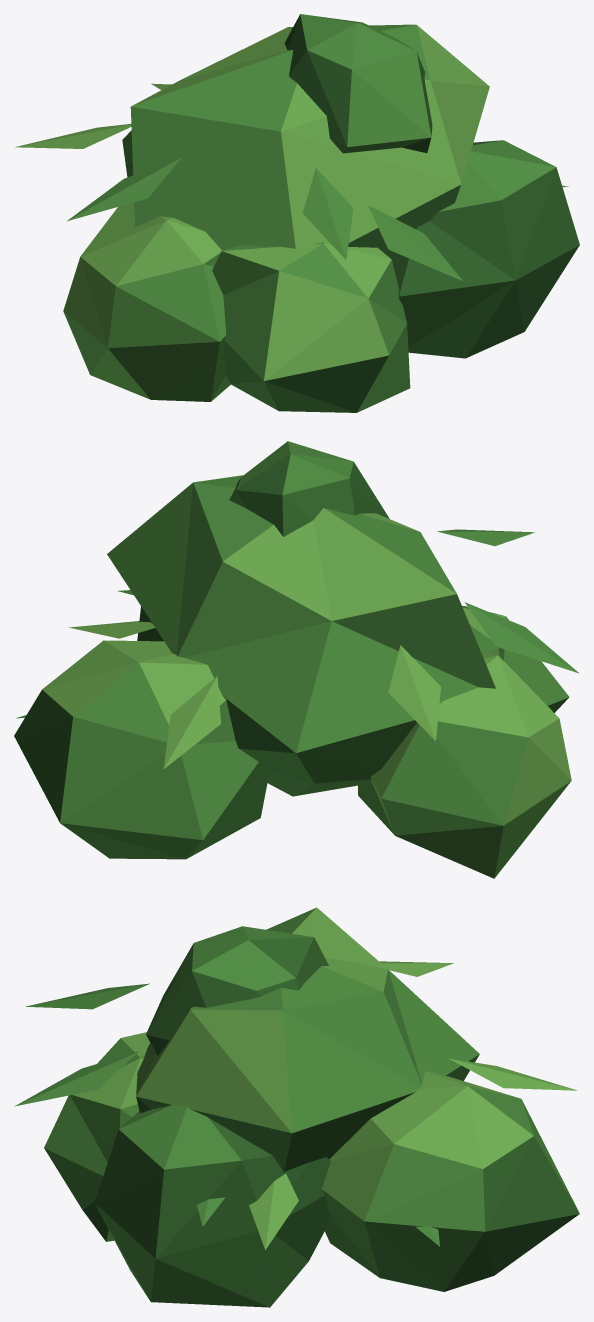
File: bush_round_b.fbx
3 renders of one model, top to bottom at view 1: azimuth 30°, elevation 25°; view 2: azimuth 150°, elevation 25°; view 3: azimuth 270°, elevation 25°, orthographic. The views are drawn at different scales.
Visible parts, largest first — view 1: bush_round_b; view 2: bush_round_b; view 3: bush_round_b.
Boxes of the visible parts, x1,y1,x2,y2 form: bush_round_b: (15, 14, 579, 412); bush_round_b: (14, 441, 579, 878); bush_round_b: (14, 907, 579, 1307).
Bounding box in the file's own units: 2.26 × 1.43 × 2.26.
